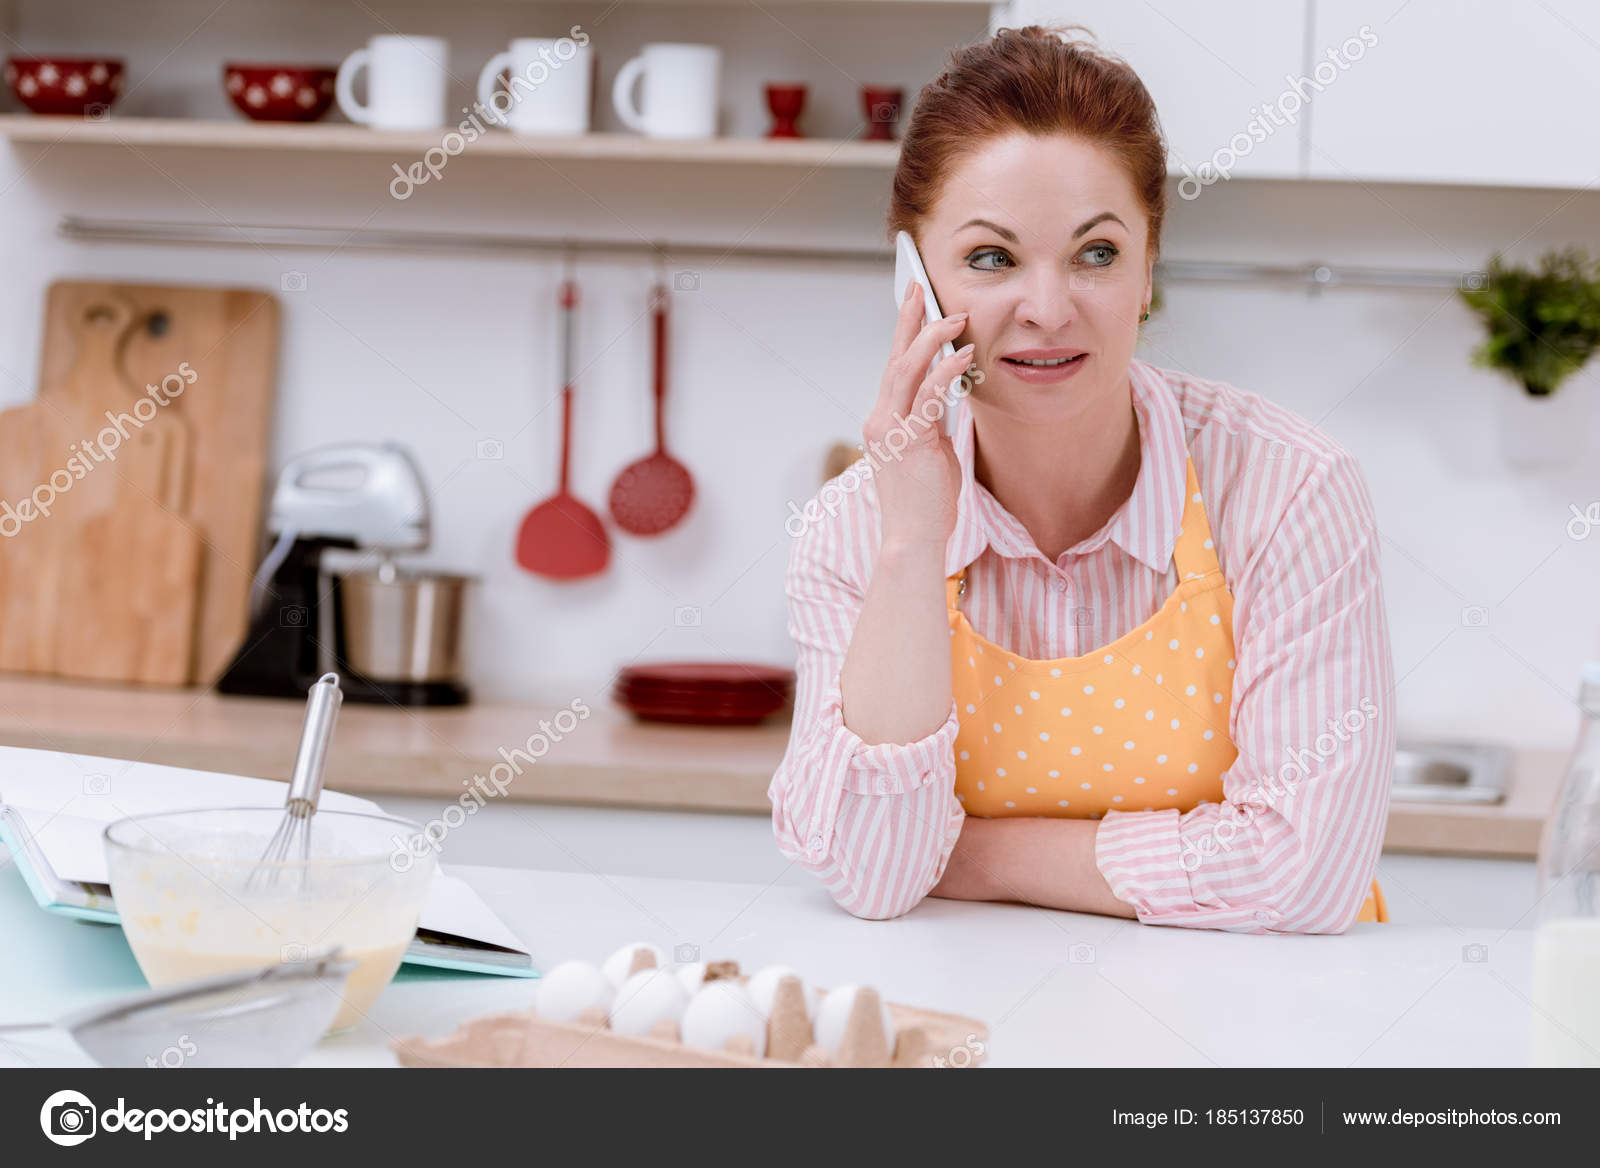phone: (858, 267, 975, 452)
talk: (848, 211, 1149, 545)
